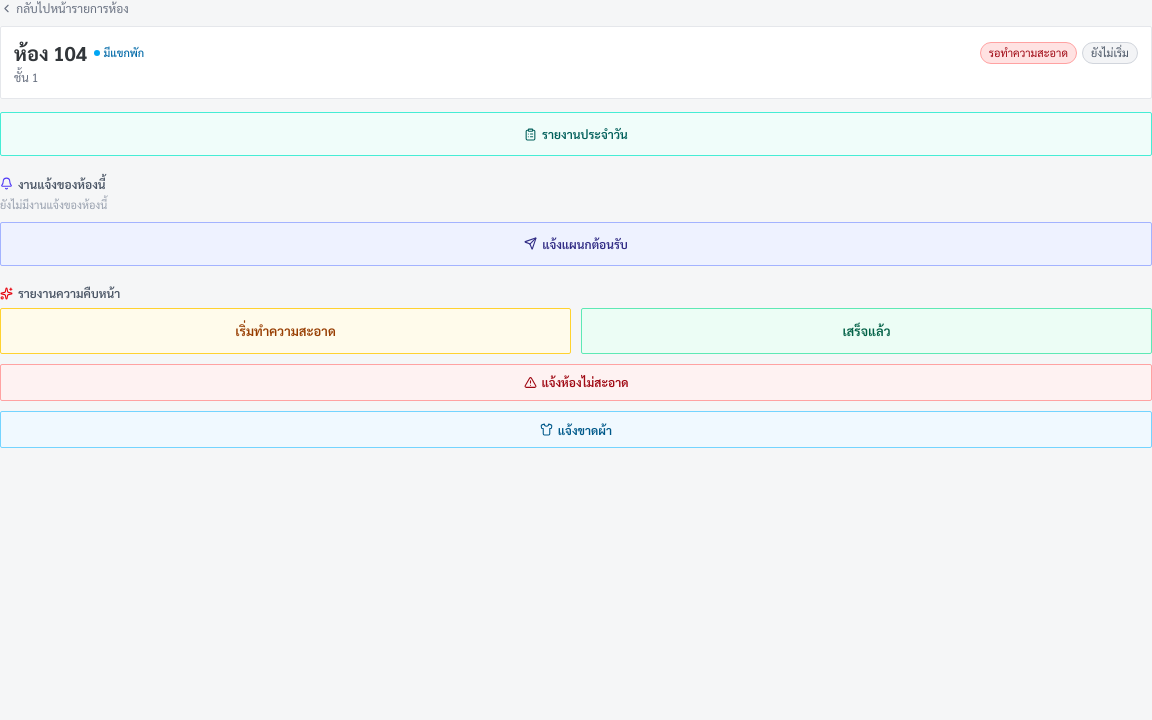
it: แจ้งขาดผ้า — linen shortage › does NOT re-fetch when the report fails
Expected: the heading "ห้อง 104" is shown, [14,40,87,66]
What coordinates should you click on to do the following:
click the button "แจ้งขาดผ้า"
I would click on:
 (576, 430)
Its box is [0,411,1151,448].
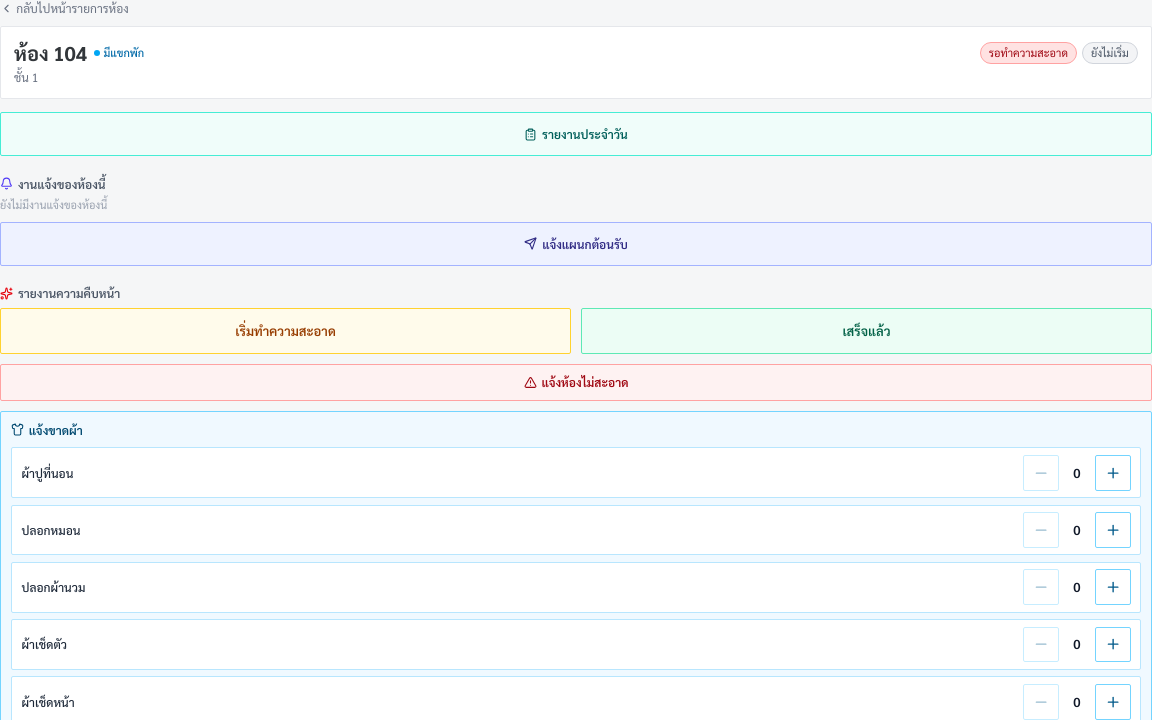
What coordinates should you click on to do the following:
click the button named "เพิ่ม ปลอกหมอน"
I would click on:
 (1113, 530)
Its box is [1095,512,1131,548].
(page scrolled)
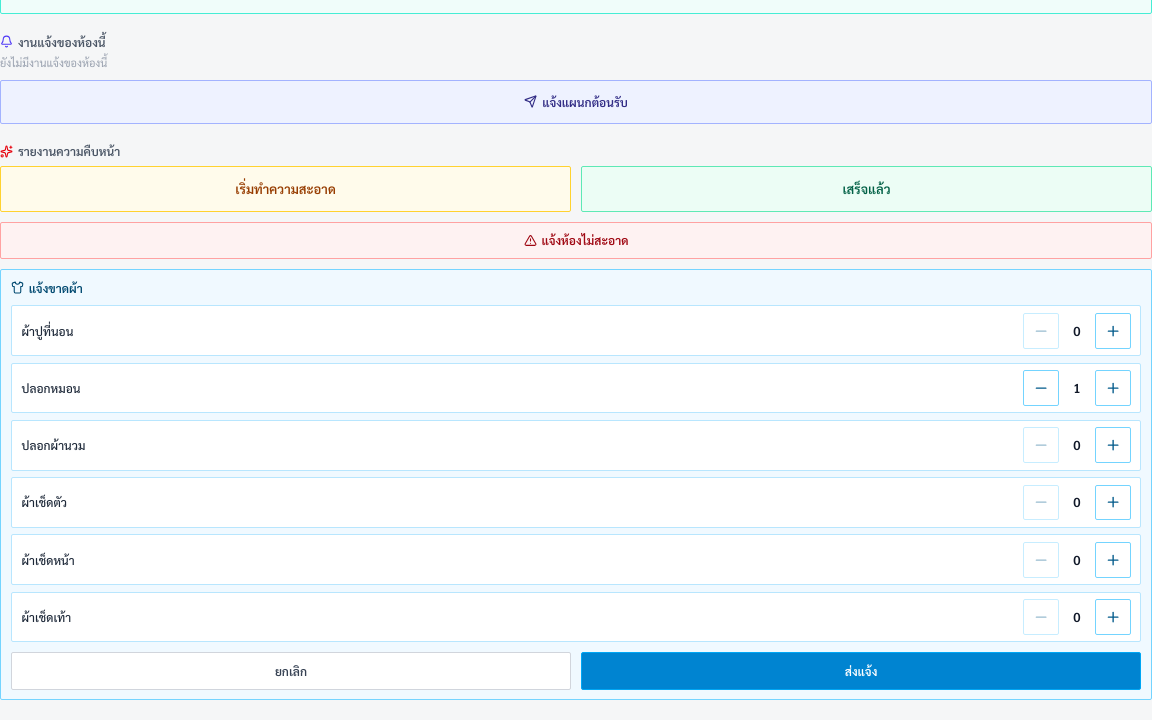
What coordinates should you click on to do the following:
click the button "ส่งแจ้ง"
I would click on:
 (861, 671)
Its box is [581,652,1141,690].
(page scrolled)
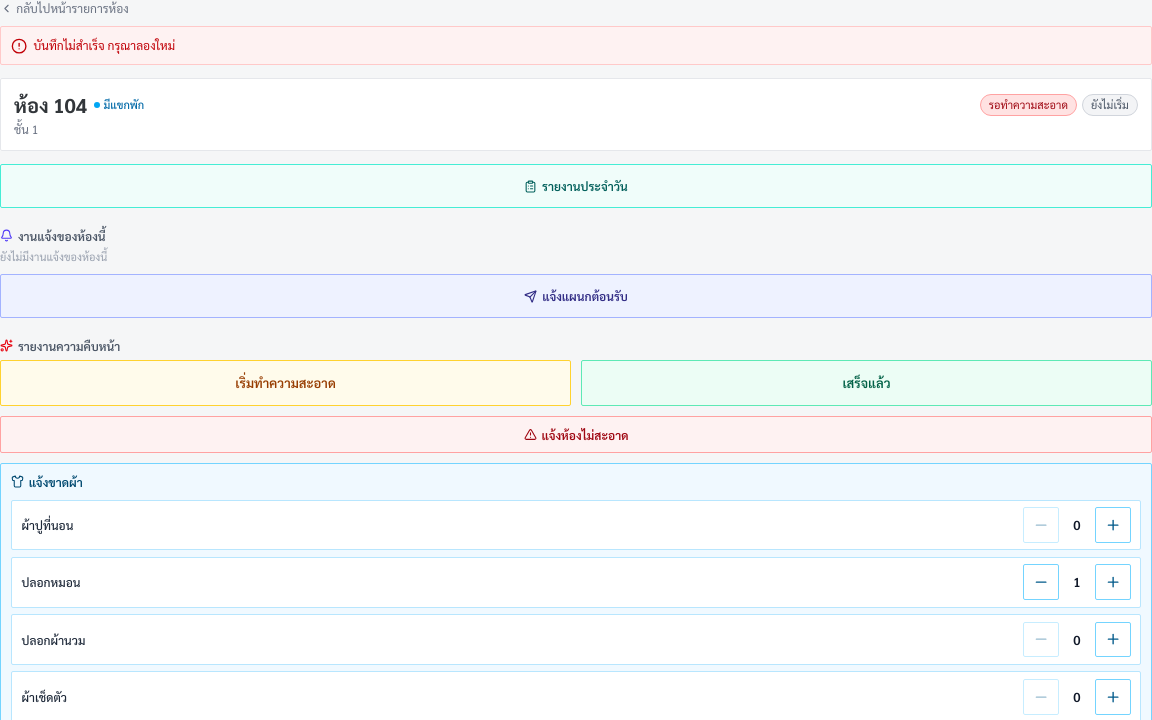
Expected: the text "บันทึกไม่สำเร็จ กรุณาลองใหม่" is shown, [34,36,175,52]
